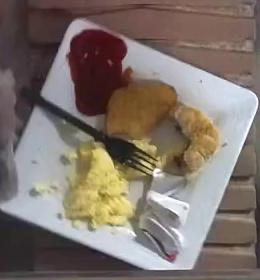biscuit: (174, 105, 219, 171)
hash: (107, 80, 177, 139)
scrambled_eggs: (62, 141, 132, 227), (129, 139, 158, 159), (119, 164, 143, 179)
